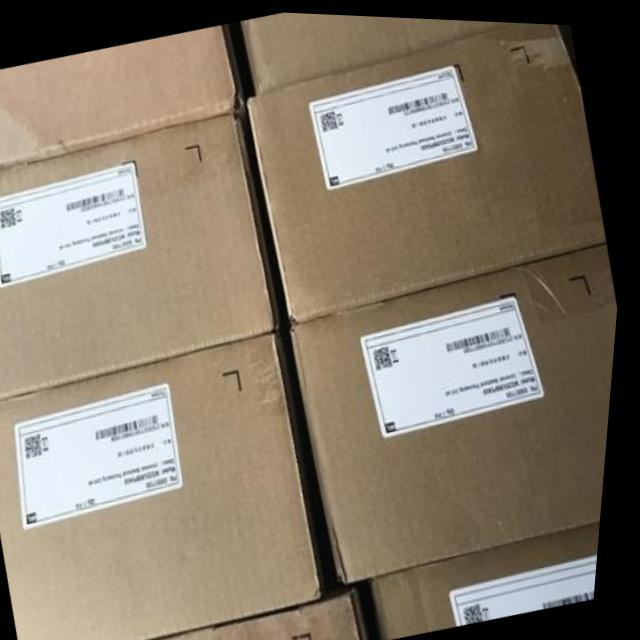box: (294, 236, 622, 581), (243, 18, 608, 323), (0, 325, 348, 640), (0, 109, 294, 400), (0, 21, 246, 172), (375, 519, 608, 636), (226, 10, 521, 96), (152, 571, 388, 640)
